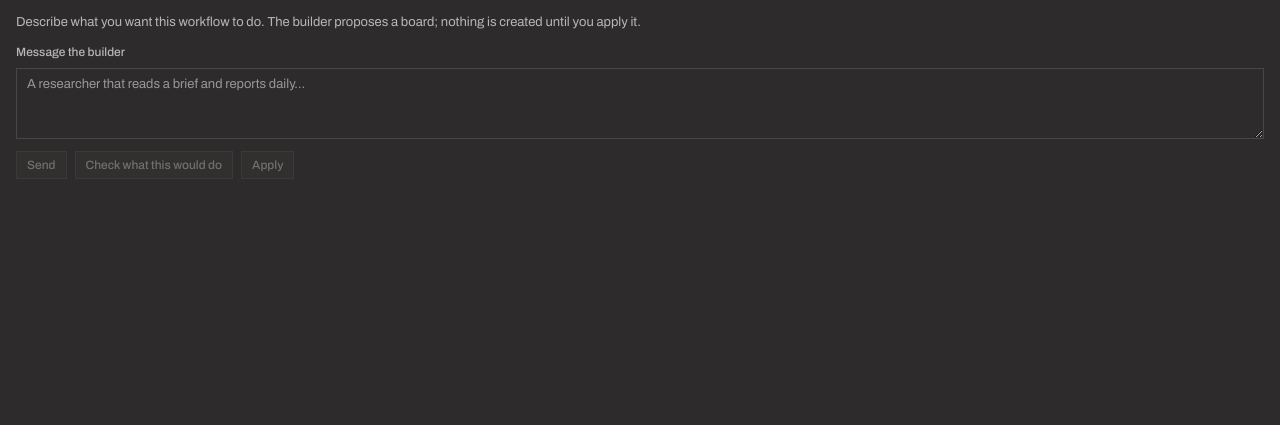
Scenario: BuilderPanel — plan, confirm, then apply › applies for real only on the second click, and reports what landed
Type "a researcher" into the text box with test id "builder-input" at (640, 104), box [16,68,1264,139]
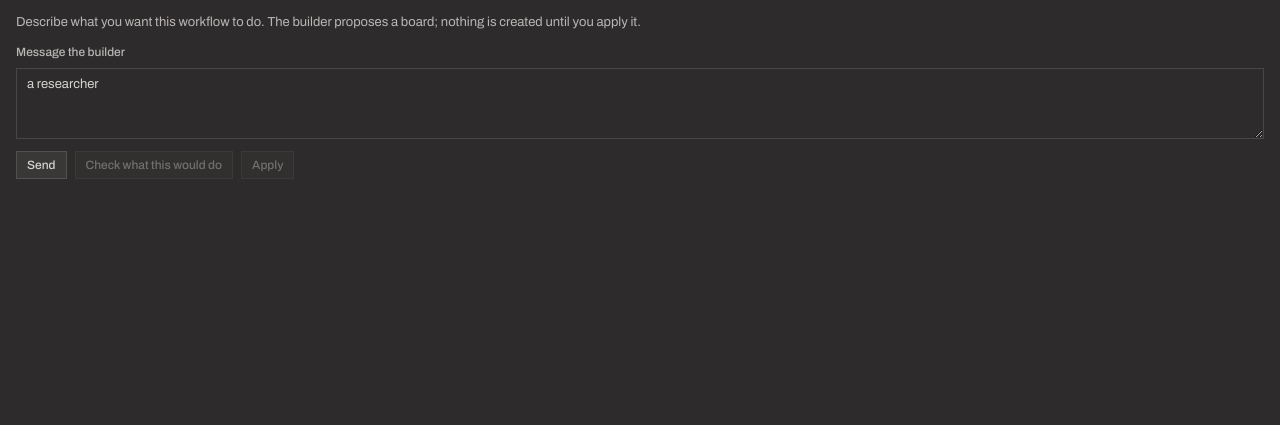
Click the button with test id "btn-builder-send" at (41, 165), box [16,151,66,179]
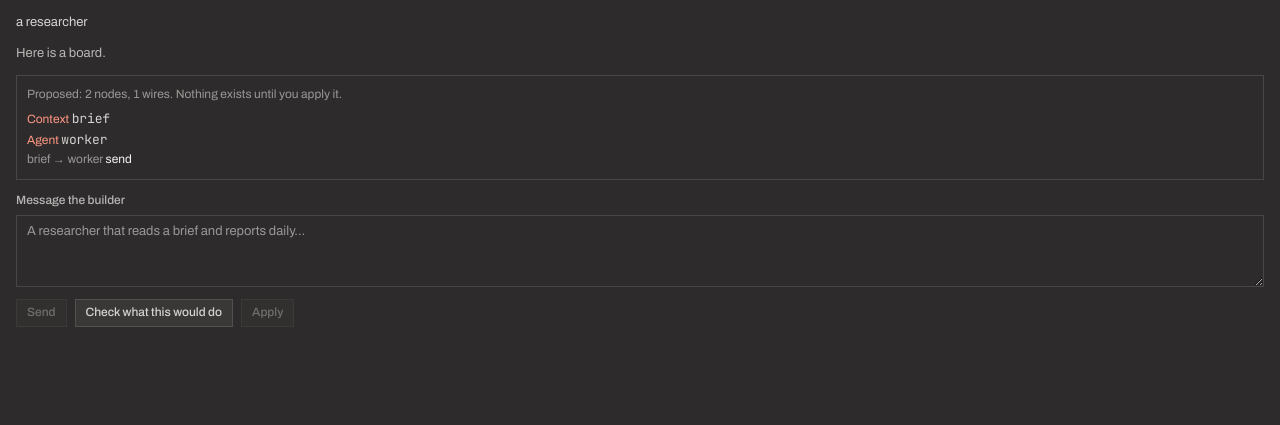
Check: the element with test id "builder-preview" is shown, box [16,75,1264,180]
Click the button with test id "btn-builder-preview" at (154, 313), box [74,299,233,327]
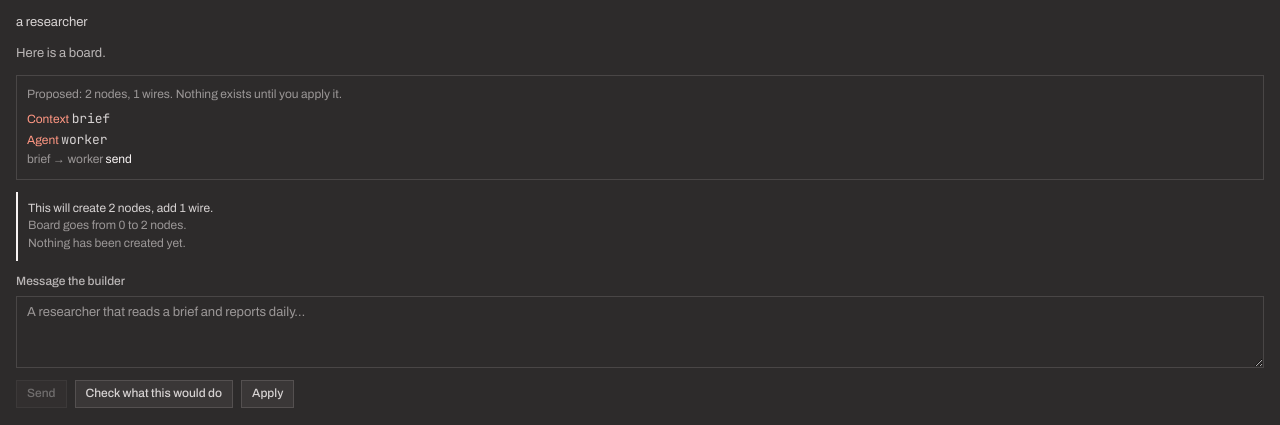
Check: the element with test id "builder-plan" is shown, box [16,192,1264,261]
Click the button with test id "btn-builder-apply" at (268, 394), box [241,380,294,408]
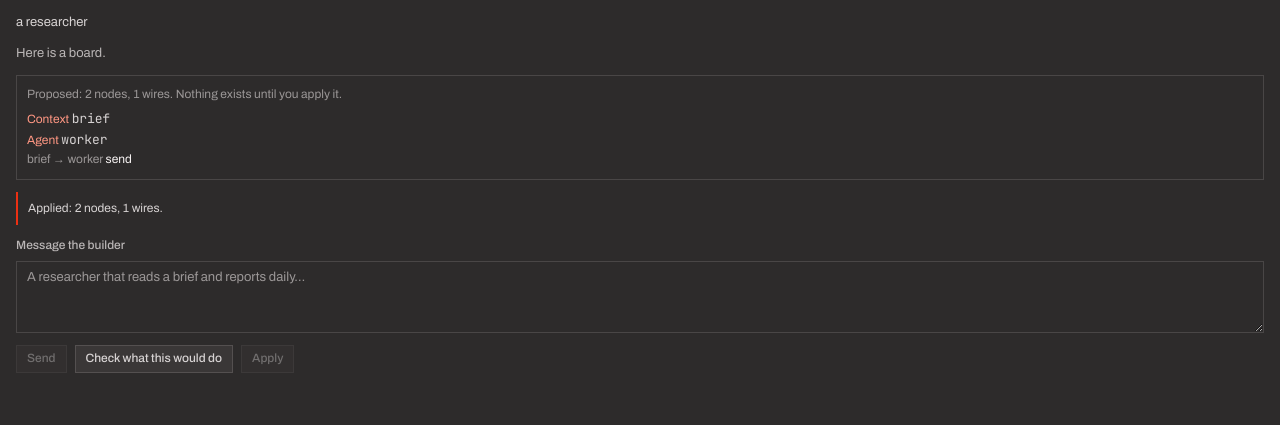
Check: the element with test id "builder-applied" is shown, box [16,192,1264,225]
